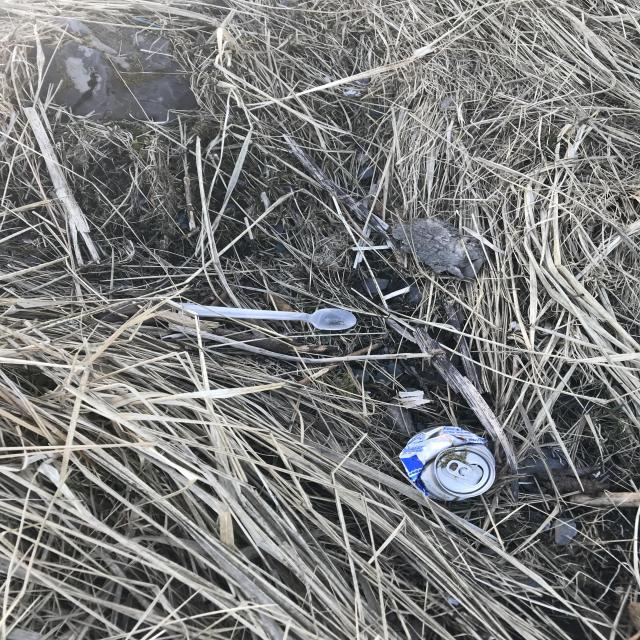litter: (406, 212, 441, 347)
